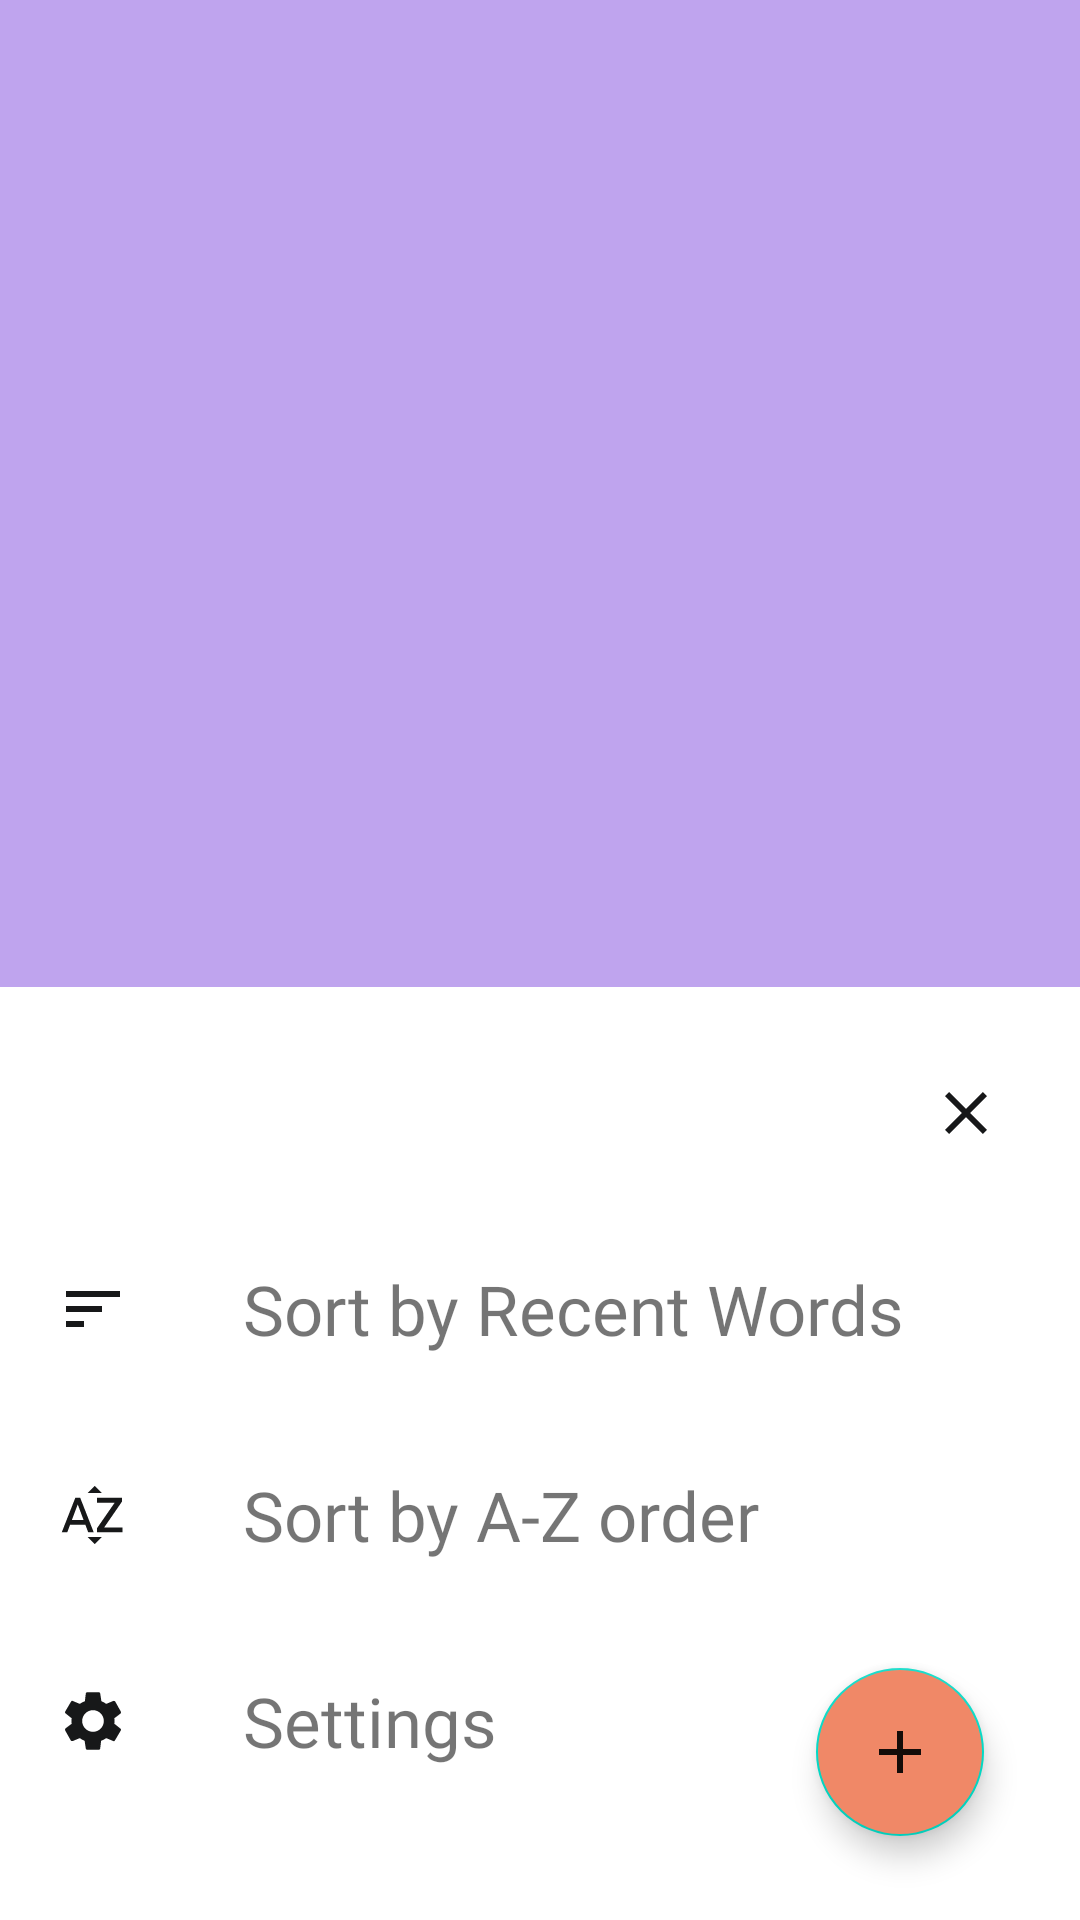

Icons on this 1080px x 1920px Android screen, each with the point to tap as point (x, y):
close: point (966, 1113)
